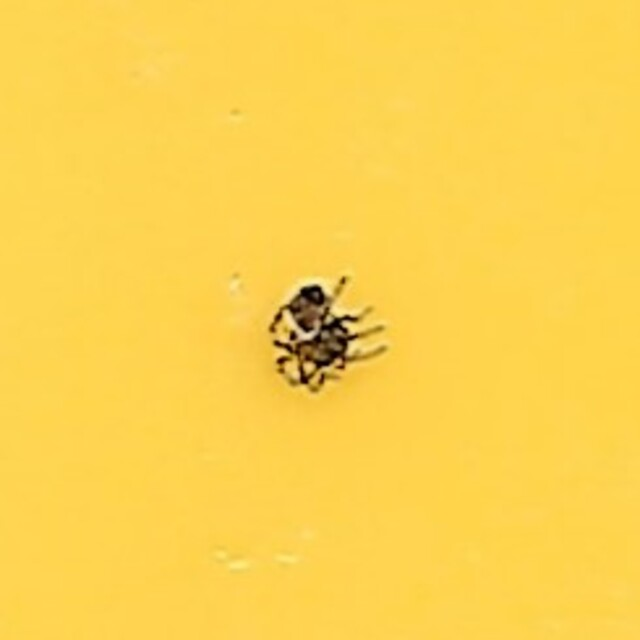Araneae: (261, 256, 379, 384)
